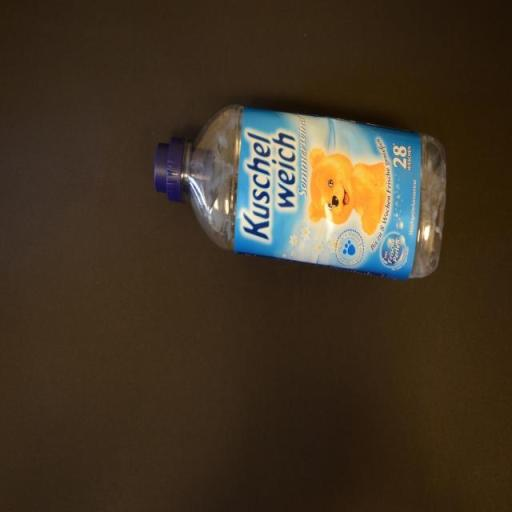plastic: (154, 106, 446, 280)
